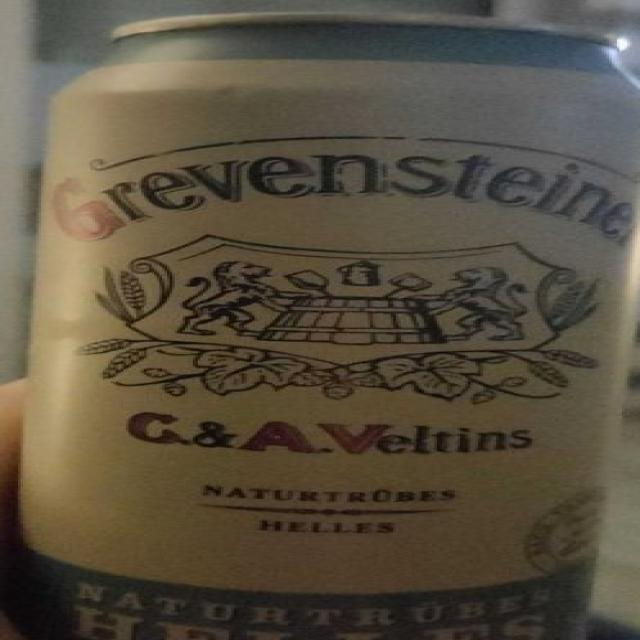Grevensteiner Natutrubes Helles: (2, 1, 640, 640)
